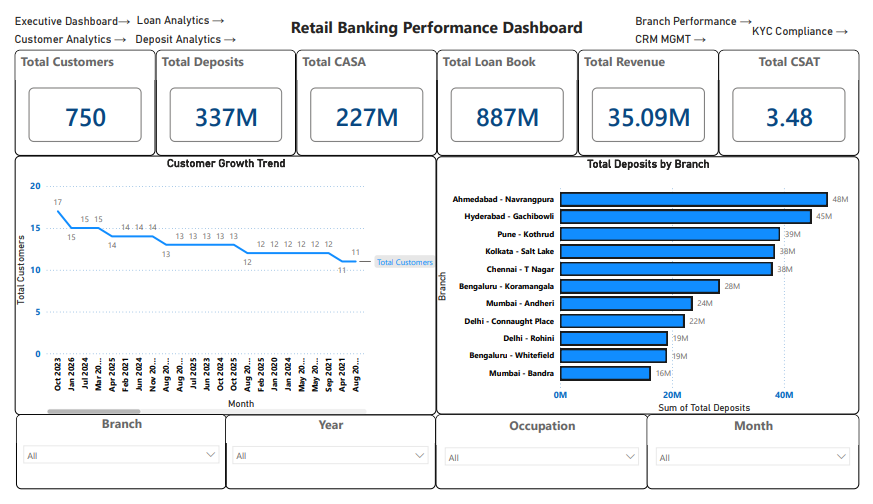

This screenshot's page, from the dashboard's own definition file:
{"tool":"powerbi","page":{"name":"Executive Dashboard","canvas":[1280,720],"ordinal":0},"visuals":[{"type":"textbox","title":"Retail Banking Performance Dashboard","box":[376.4,0,527.2,56.7],"z":0},{"type":"cardVisual","title":"Total Customers","fields":{"Data":["Mesures.Total Customers"]},"box":[0,56.2,213,160],"z":1000},{"type":"cardVisual","title":"Total Deposits","fields":{"Data":["Mesures.Total Deposits"]},"box":[213.6,56.2,212.5,160],"z":2000},{"type":"cardVisual","title":"Total Revenue","fields":{"Data":["Mesures.Estimated Revenue"]},"box":[854.1,56.2,213,160],"z":3000},{"type":"cardVisual","title":"Total CASA","fields":{"Data":["Mesures.Total CASA"]},"box":[426.8,56.2,213,160],"z":4000},{"type":"cardVisual","title":"Total CSAT","fields":{"Data":["Mesures.Avg CSAT"]},"box":[1067,56.2,213,160],"z":5000},{"type":"cardVisual","title":"Total Loan Book","fields":{"Data":["Mesures.Total Loan Book"]},"box":[640.4,56.2,213,160],"z":6000},{"type":"clusteredBarChart","title":"Total Deposits by Branch","fields":{"Category":["Customers.Branch"],"Y":["Sum(Customers.Total Deposits)"]},"box":[639.4,217.2,640.6,389.7],"z":7000},{"type":"lineChart","title":"Customer Growth Trend","fields":{"Category":["DimDate.Month"],"Y":["Mesures.Total Customers"]},"box":[0,216,639.4,392.1],"z":8000},{"type":"slicer","title":"Branch","fields":{"Values":["Customers.Branch"]},"box":[2.4,606.8,318.5,113.4],"z":9000},{"type":"slicer","title":"Occupation","fields":{"Values":["Customers.Occupation"]},"box":[638.2,606.8,322.1,113.4],"z":10000},{"type":"slicer","title":"Year","fields":{"Values":["DimDate.Year"]},"box":[318.5,608,319.7,112.2],"z":11000},{"type":"slicer","title":"Month","fields":{"Values":["DimDate.Month"]},"box":[957.9,606.8,322.1,113.4],"z":12000},{"type":"actionButton","title":"Customer Analytics →","box":[0,27.7,177.3,29],"z":13000},{"type":"actionButton","title":"Loan Analytics →","box":[184.6,0,177.3,27.7],"z":14000},{"type":"actionButton","title":"Deposit Analytics →","box":[183.4,29,177.3,29],"z":15000},{"type":"actionButton","title":"Branch Performance →","box":[941,1.2,177.3,29],"z":16000},{"type":"actionButton","title":"CRM MGMT →","box":[941,29,160.5,29],"z":17000},{"type":"actionButton","title":"KYC Compliance →","box":[1118.4,15.7,155.6,29],"z":18000},{"type":"actionButton","title":"Executive Dashboard→","box":[0,1.2,177.3,29],"z":19000}]}

Visuals, with their boxes in screenshot pixels (x1, y1, x2, y2), scaled from the page's 1280x720 canvas onto the 873x504 screenshot:
"Retail Banking Performance Dashboard" textbox: (left=257, top=0, right=616, bottom=40)
"Total Customers" cardVisual: (left=0, top=39, right=145, bottom=151)
"Total Deposits" cardVisual: (left=146, top=39, right=291, bottom=151)
"Total Revenue" cardVisual: (left=583, top=39, right=728, bottom=151)
"Total CASA" cardVisual: (left=291, top=39, right=436, bottom=151)
"Total CSAT" cardVisual: (left=728, top=39, right=872, bottom=151)
"Total Loan Book" cardVisual: (left=437, top=39, right=582, bottom=151)
"Total Deposits by Branch" clusteredBarChart: (left=436, top=152, right=872, bottom=425)
"Customer Growth Trend" lineChart: (left=0, top=151, right=436, bottom=426)
"Branch" slicer: (left=2, top=425, right=219, bottom=503)
"Occupation" slicer: (left=435, top=425, right=655, bottom=503)
"Year" slicer: (left=217, top=426, right=435, bottom=503)
"Month" slicer: (left=653, top=425, right=872, bottom=503)
"Customer Analytics →" actionButton: (left=0, top=19, right=121, bottom=40)
"Loan Analytics →" actionButton: (left=126, top=0, right=247, bottom=19)
"Deposit Analytics →" actionButton: (left=125, top=20, right=246, bottom=41)
"Branch Performance →" actionButton: (left=642, top=1, right=763, bottom=21)
"CRM MGMT →" actionButton: (left=642, top=20, right=751, bottom=41)
"KYC Compliance →" actionButton: (left=763, top=11, right=869, bottom=31)
"Executive Dashboard→" actionButton: (left=0, top=1, right=121, bottom=21)
